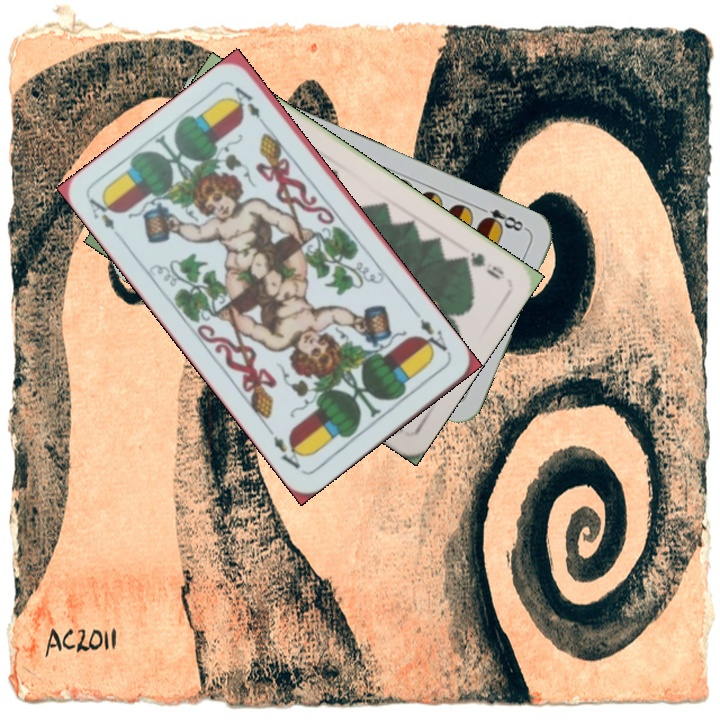E8: (474, 202, 530, 234)
EA: (415, 314, 453, 359), (85, 192, 120, 233)
G9: (455, 247, 507, 283)
